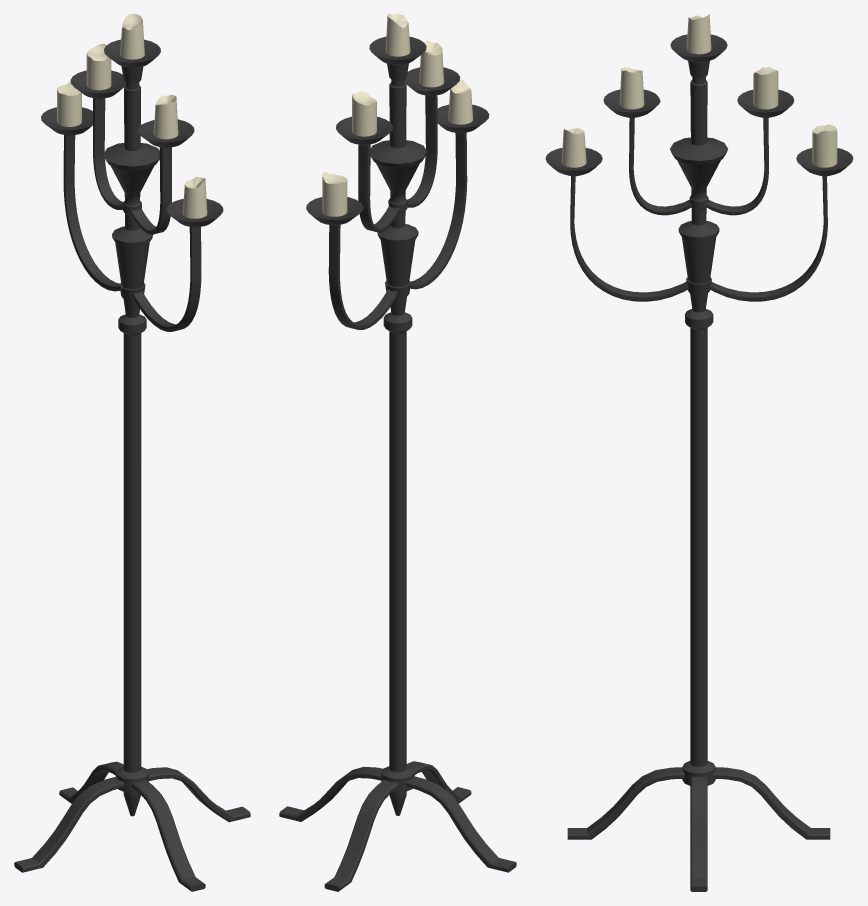
File: Candelabra.fbx
3 views of the same model, side by side, from view 1: azimuth 30°, elevation 25°; view 2: azimuth 150°, elevation 25°; view 3: azimuth 270°, elevation 25° (orthographic).
Visible parts, largest first — view 1: Candelabra_V2; view 2: Candelabra_V2; view 3: Candelabra_V2.
Part boxes in pixels (x1,y1,x2,y2): Candelabra_V2: (14,14,250,891); Candelabra_V2: (279,14,516,891); Candelabra_V2: (545,14,853,891).
Bounding box in the file's own units: 43.55 × 151 × 51.09.
